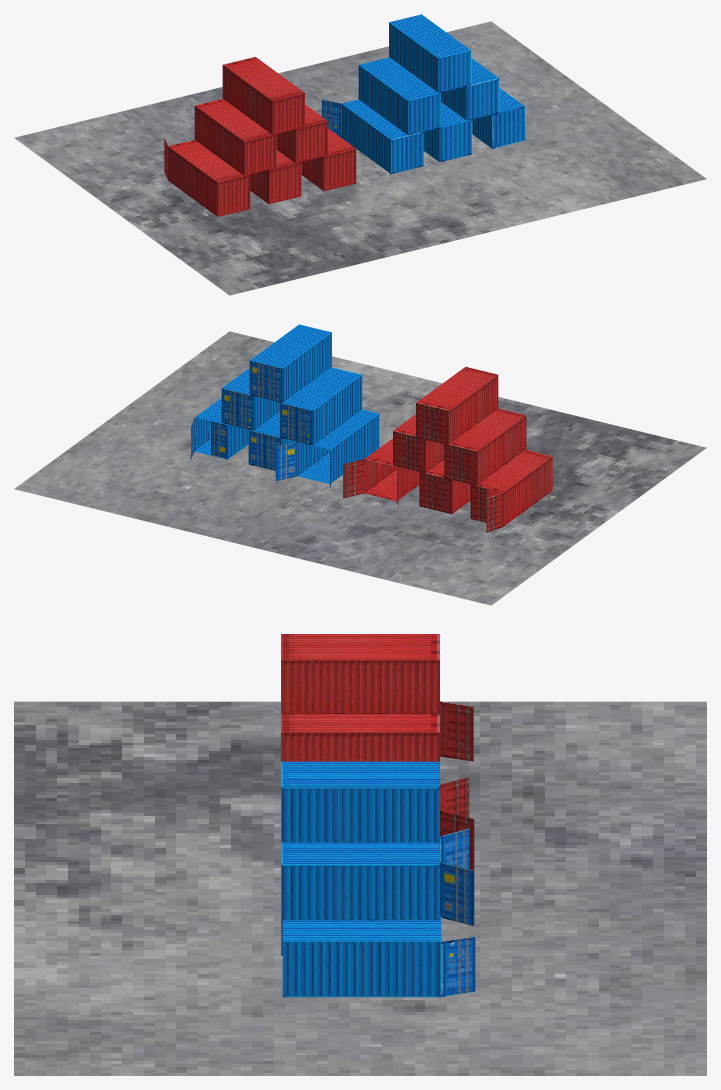
The model's file is container_style_psx__low_poly.glb.
The picture shows the model from 3 angles, top to bottom: view 1: azimuth 30°, elevation 25°; view 2: azimuth 150°, elevation 25°; view 3: azimuth 270°, elevation 25°; orthographic projection. The views are drawn at different scales.
Parts seen in each view (by area): view 1: Suelo, container_cerrada_azul_4, container_cerrada_roja_4, container_cerrada_azul_2, container_abierta_puerta1_roja, container_abierta_azul, container_cerrada_roja_3, container_cerrada_azul_3, Container_abierta_azul, Container_abierta_puerta1_azul, Container_cerrada_azul, container_cerrada_roja_2 (+1 smaller); view 2: Suelo, container_cerrada_azul_4, container_cerrada_roja_4, container_abierta_azul, container_cerrada_azul_2, container_abierta_puerta1_roja, container_cerrada_roja_3, Container_abierta_azul, Container_abierta_puerta1_azul, container_cerrada_azul_3, container_cerrada_roja_2, container_abierta_roja (+1 smaller); view 3: Suelo, Container_abierta_puerta1_azul, container_cerrada_azul_4, container_cerrada_roja_4, container_cerrada_azul_3, container_cerrada_roja_2, container_abierta_azul, container_abierta_puerta1_roja, Container_abierta_azul.
Boxes of the visible parts, x1,y1,x2,y2 form: Suelo: (14,21,706,295); container_cerrada_azul_4: (389,14,471,92); container_cerrada_roja_4: (222,56,304,135); container_cerrada_azul_2: (358,57,440,135); container_abierta_puerta1_roja: (164,138,250,216); container_abierta_azul: (322,99,423,173); container_cerrada_roja_3: (194,98,276,175); container_cerrada_azul_3: (440,58,499,120); Container_abierta_azul: (301,128,356,191); Container_abierta_puerta1_azul: (472,88,525,148); Container_cerrada_azul: (423,102,472,162); container_cerrada_roja_2: (276,104,327,163); Suelo: (14,331,706,605); container_cerrada_azul_4: (249,324,331,402); container_cerrada_roja_4: (416,366,498,444); container_abierta_azul: (275,409,379,490); container_cerrada_azul_2: (280,367,362,445); container_abierta_puerta1_roja: (470,450,552,532); container_cerrada_roja_3: (444,408,526,485); Container_abierta_azul: (343,438,419,508); Container_abierta_puerta1_azul: (190,398,248,460); container_cerrada_azul_3: (221,368,280,430); container_cerrada_roja_2: (393,414,444,473); container_abierta_roja: (419,460,470,514); Suelo: (14,701,706,1075); Container_abierta_puerta1_azul: (282,916,475,997); container_cerrada_azul_4: (281,761,439,842); container_cerrada_roja_4: (281,634,439,713); container_cerrada_azul_3: (281,842,439,920); container_cerrada_roja_2: (281,714,439,761); container_abierta_azul: (440,828,474,925); container_abierta_puerta1_roja: (440,701,473,761); Container_abierta_azul: (440,777,474,870).
Size of the model in its own units: 51.5 by 10.83 by 40.3.
Materials: 13 (13 with a texture image).
